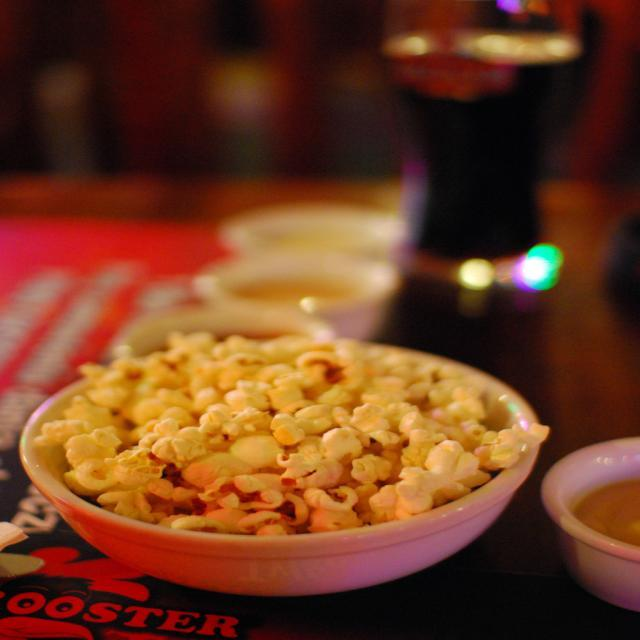Popcorn: (28, 340, 518, 534)
